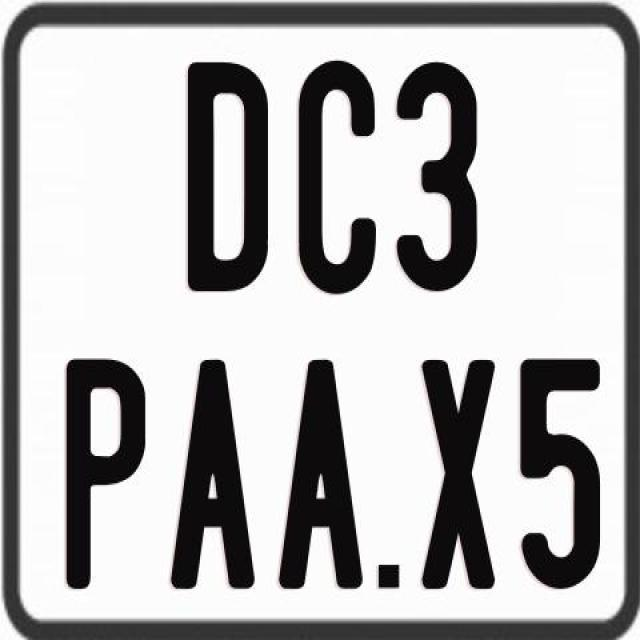3: (398, 60, 486, 298)
5: (518, 354, 600, 594)
A: (274, 357, 366, 586), (168, 360, 256, 595)
C: (296, 59, 382, 298)
D: (185, 59, 268, 291)
P: (65, 357, 148, 590)
X: (420, 357, 496, 587)
